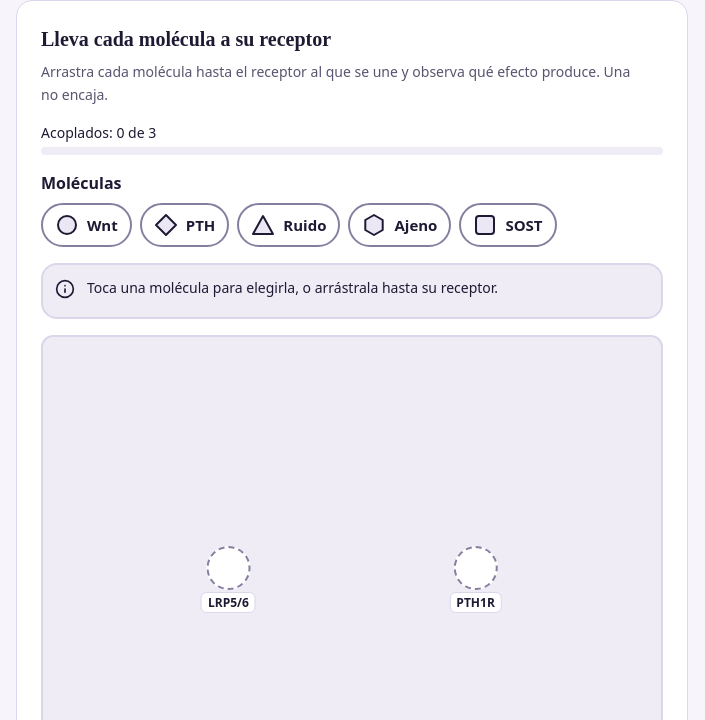
Test: ActividadArrastreMolecular: errores y distractores › cada distractor muestra SU rechazo, no el de otro
Step 1. Click the button "Ruido" → (289, 224), box [237,202,340,246]
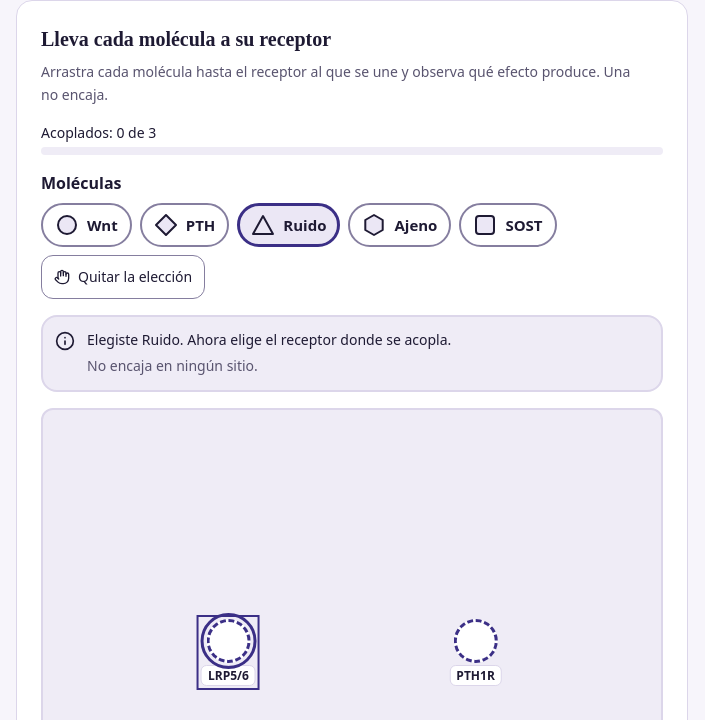
Step 2. Click the button "LRP5/6" → (228, 653), box [201,619,256,686]
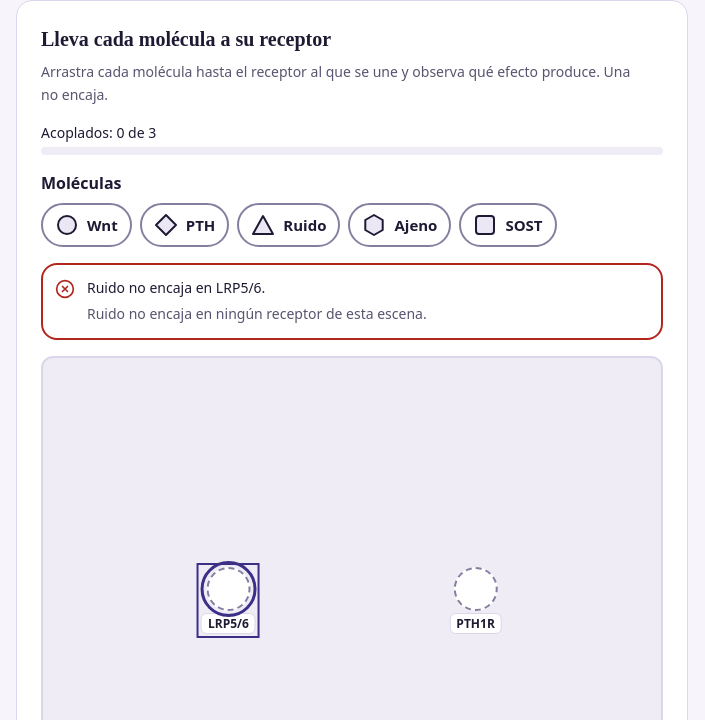
Result: the message "Ruido no encaja en LRP5/6. Ruido no encaja en ningún receptor de esta escena." is shown at [41,262,663,340]
Step 3. Click the button "Ajeno" → (400, 224), box [348,202,451,246]
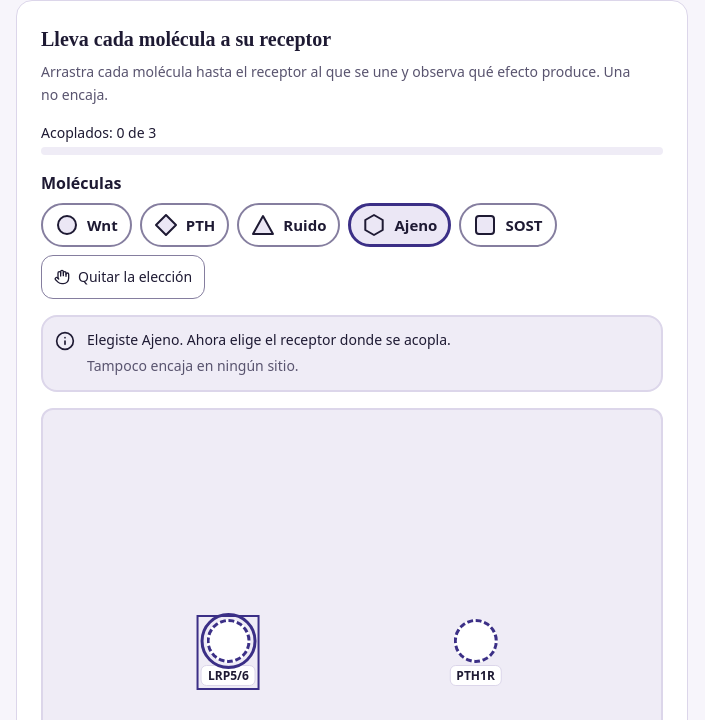
Step 4. Click the button "PTH1R" → (476, 653), box [449,619,502,686]
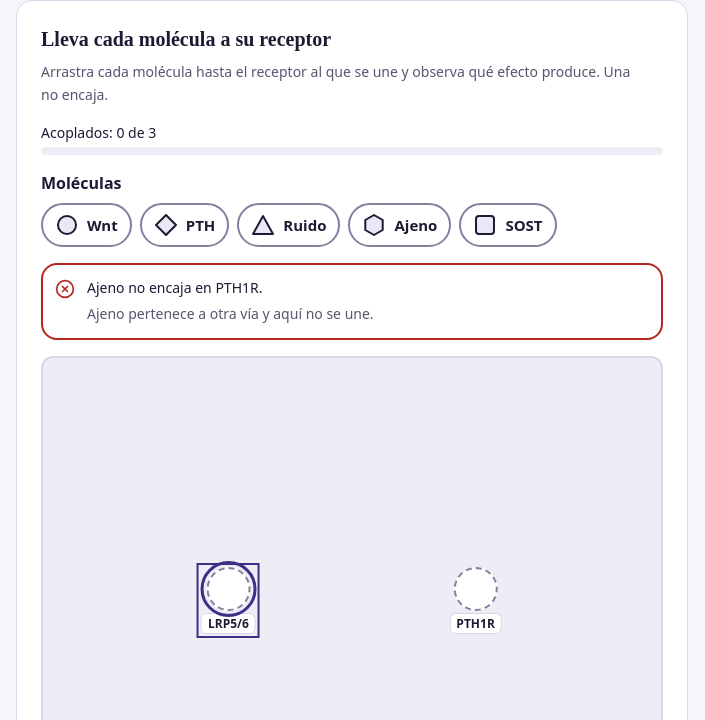
Expected: the text "Ruido no encaja" is not shown
Result: the message "Ajeno no encaja en PTH1R. Ajeno pertenece a otra vía y aquí no se une." is shown at [41,262,663,340]
